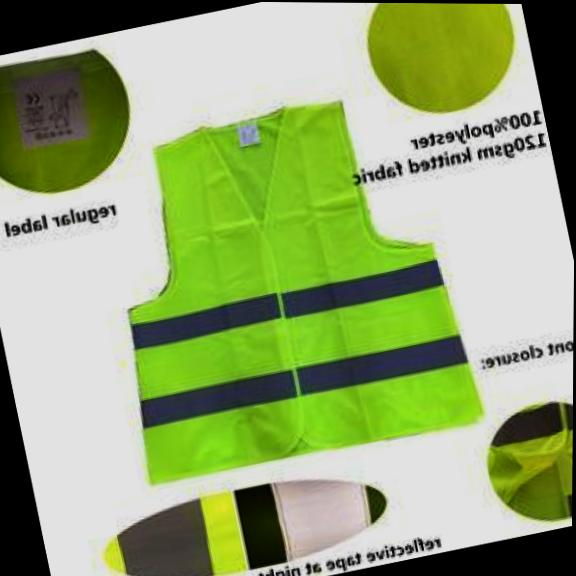safety_vest: (77, 76, 491, 496)
